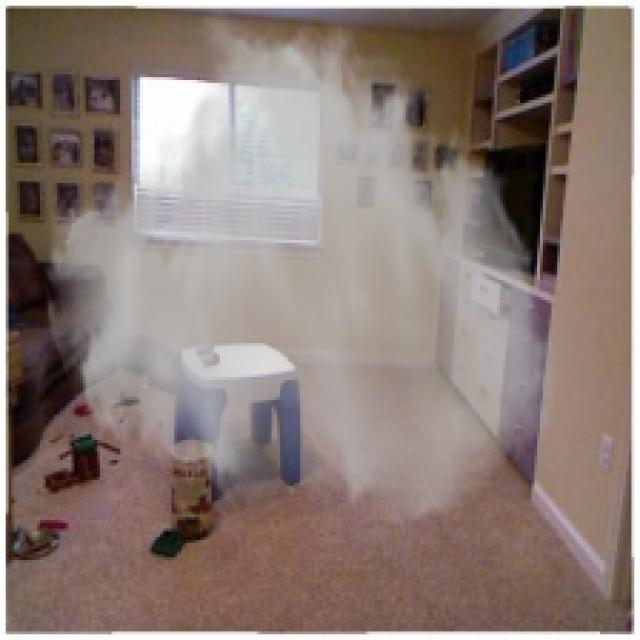smoke: (40, 6, 560, 528)
